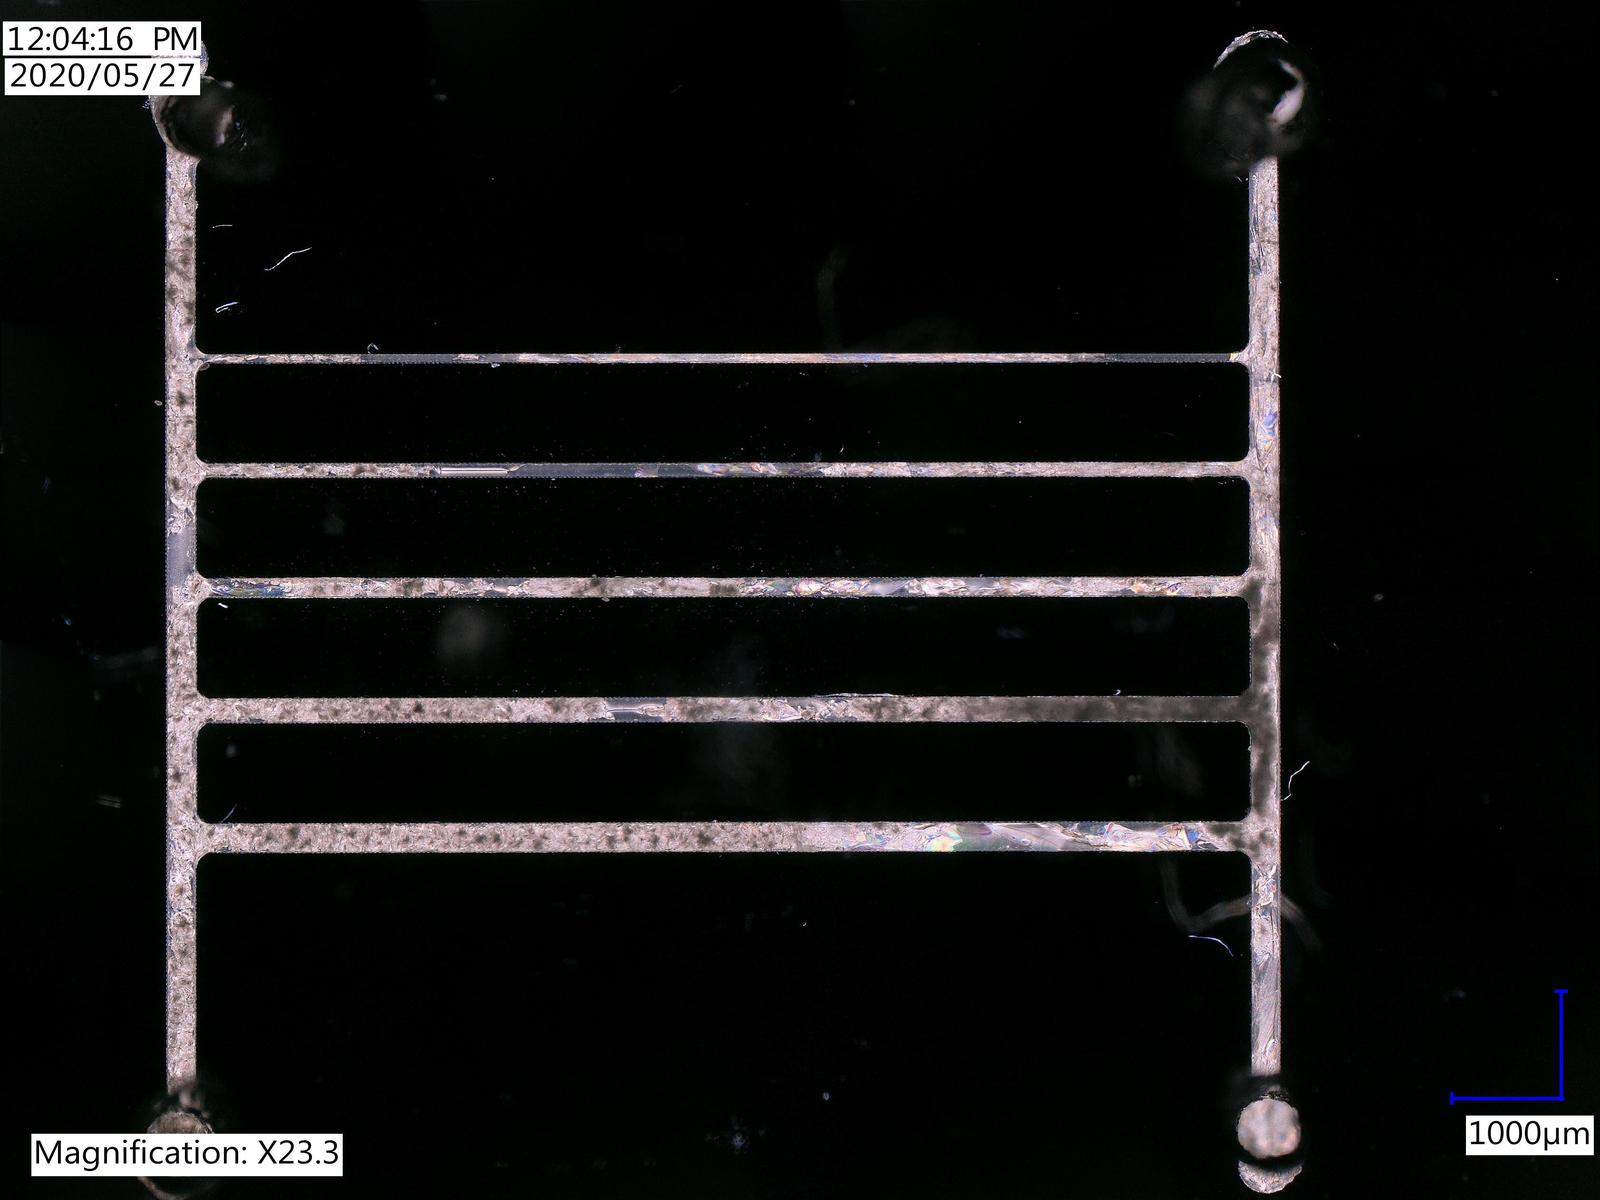sediment: (207, 697, 609, 722), (452, 823, 808, 850), (168, 161, 194, 513), (200, 824, 413, 853), (847, 695, 1015, 722), (522, 577, 757, 595), (1249, 572, 1280, 700), (168, 576, 199, 695), (165, 698, 195, 821), (168, 879, 195, 1005), (661, 697, 813, 720), (282, 577, 456, 596)
